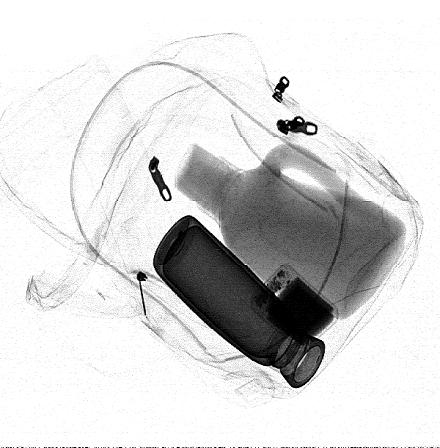Powerbank: (249, 264, 339, 353)
